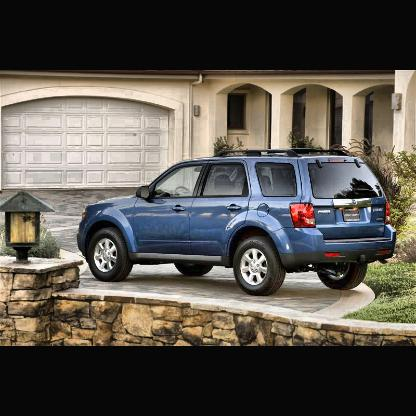Mazda Tribute SUV 2011: (80, 147, 401, 301)
